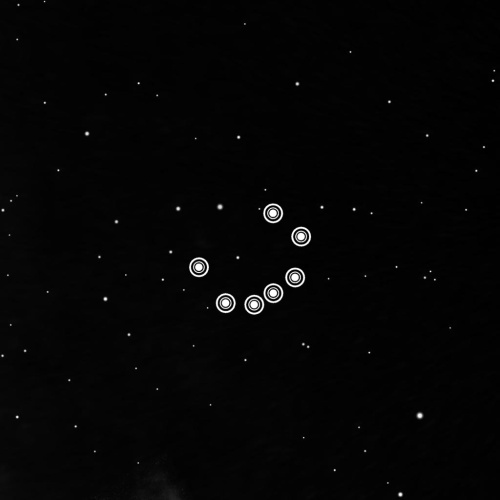corona_borealis: (186, 196, 316, 320)
